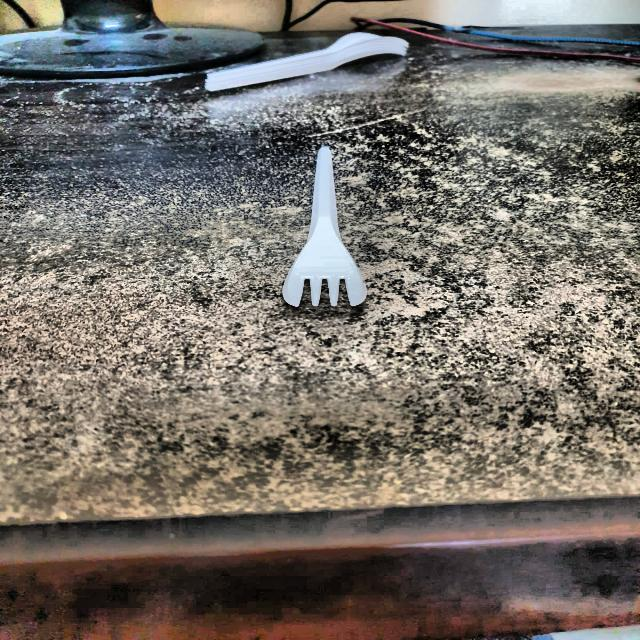plastic utensil: (278, 140, 376, 318)
